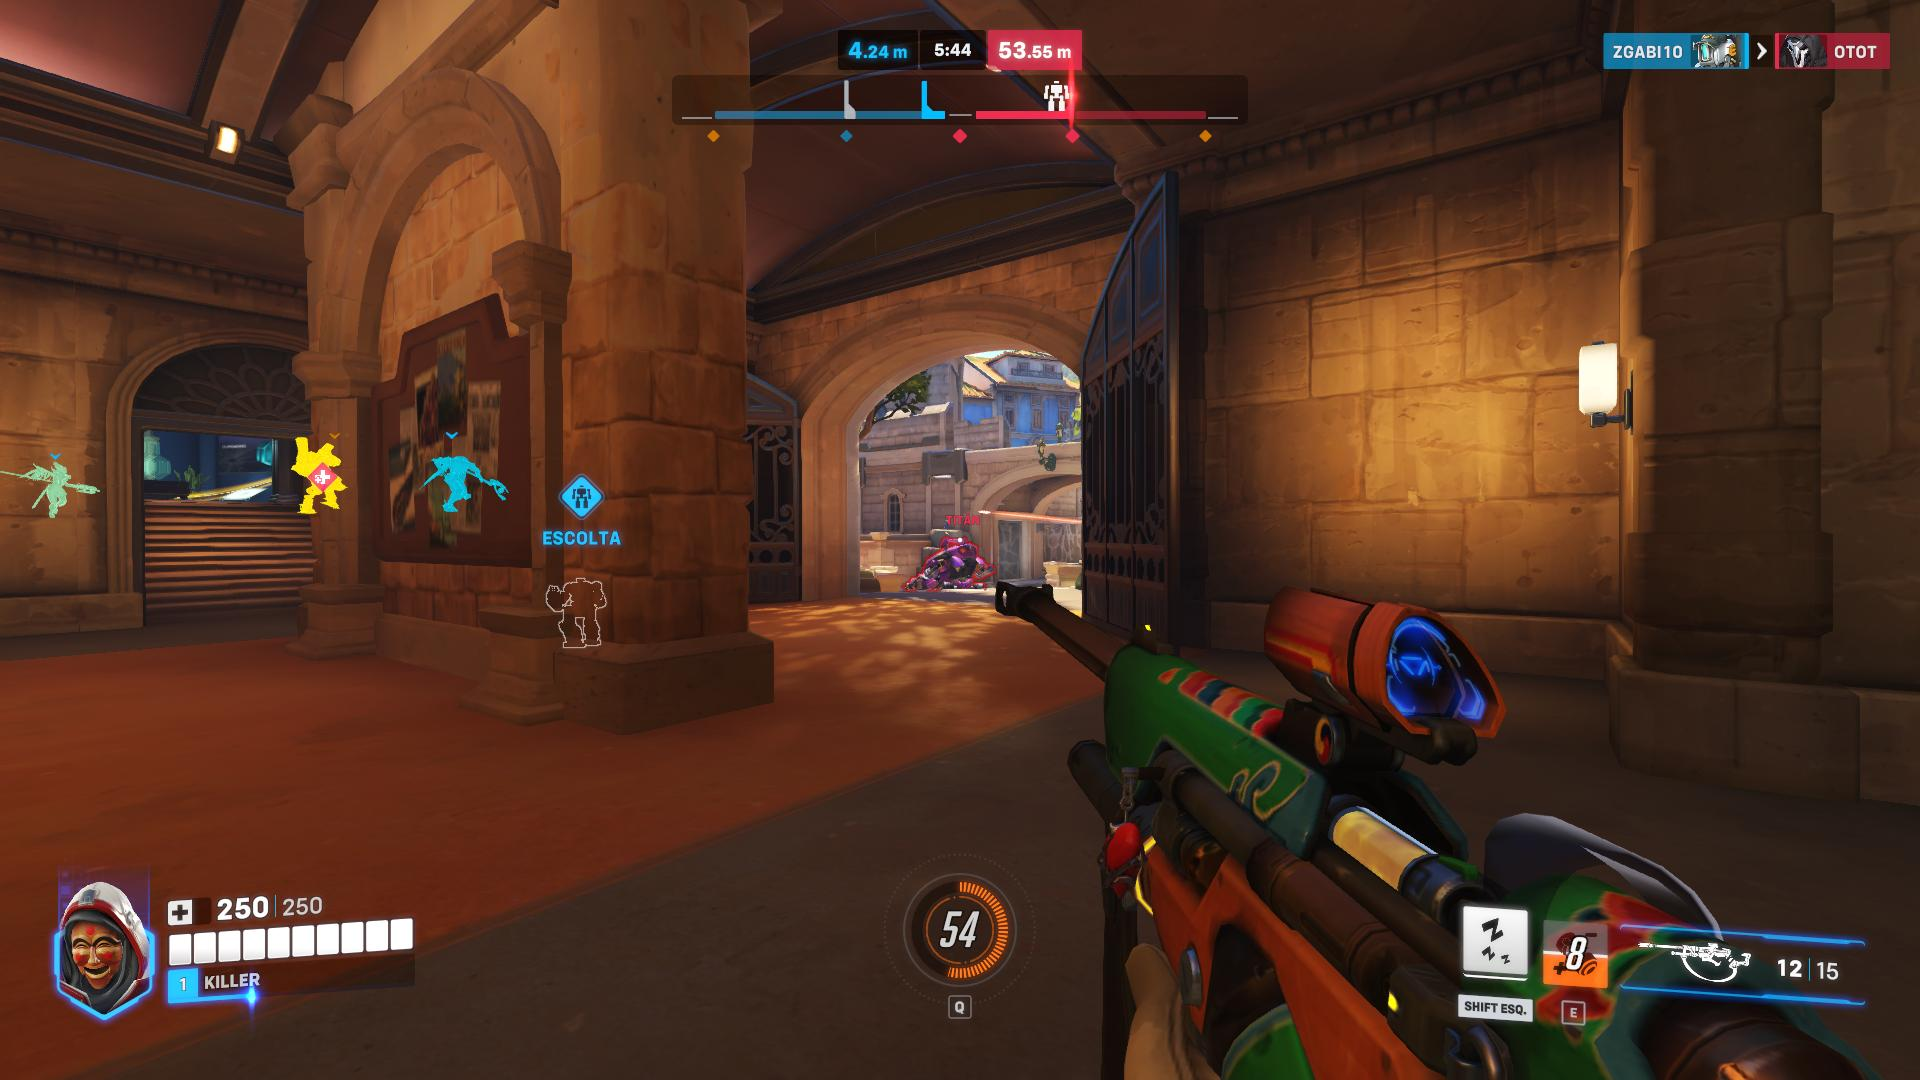enemy: (911, 535, 988, 588)
